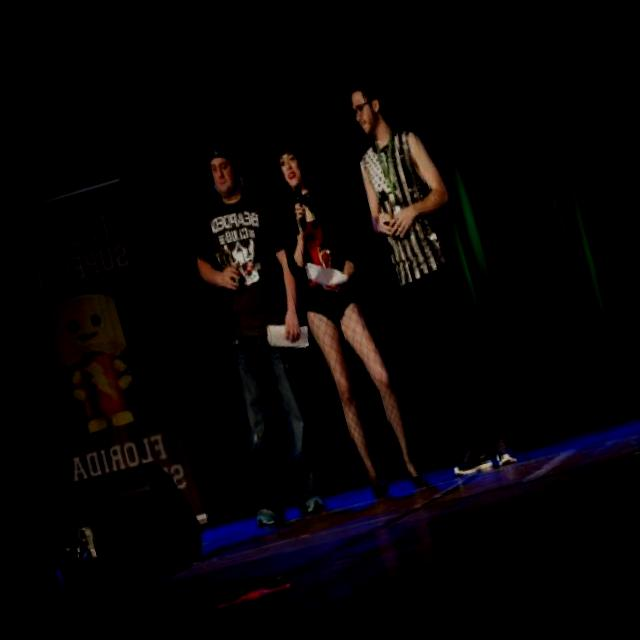Person: (328, 49, 517, 482), (165, 130, 356, 522), (254, 118, 432, 504)
